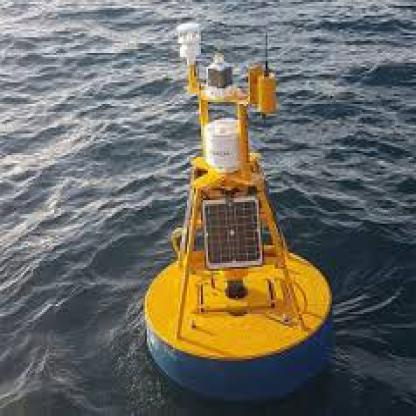buoy: (136, 12, 348, 410)
